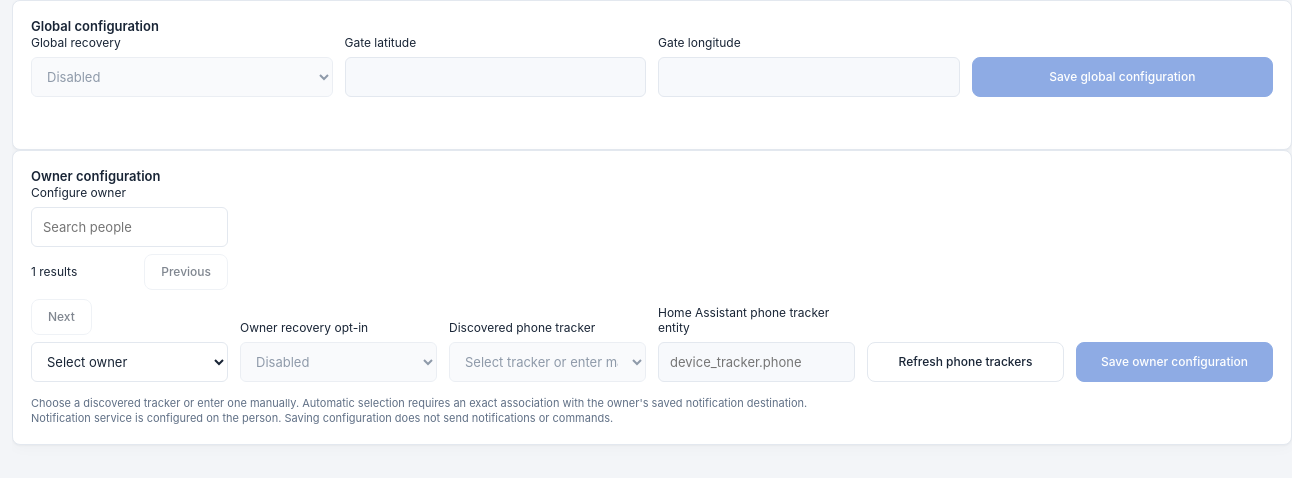
Test: refreshes recovery owner identities locally after an accepted save while maintenance remains blocked
Select "Ash Smith" in the dropdown named "Configure owner" at (130, 362), box [31, 342, 228, 382]
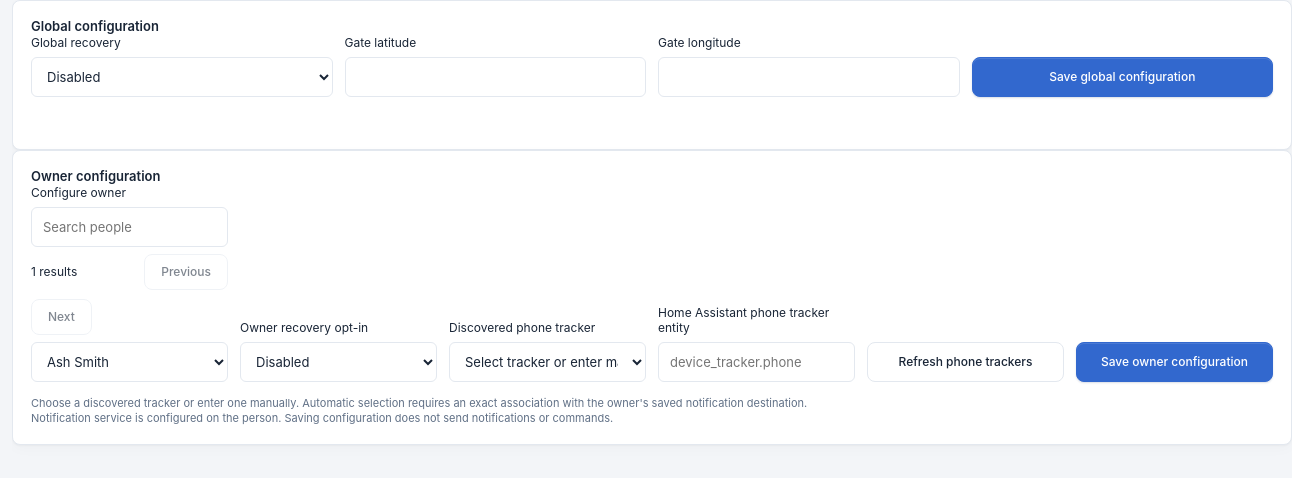
Select "Enabled" in the dropdown labelled "Owner recovery opt-in" at (338, 362), box [240, 342, 437, 382]
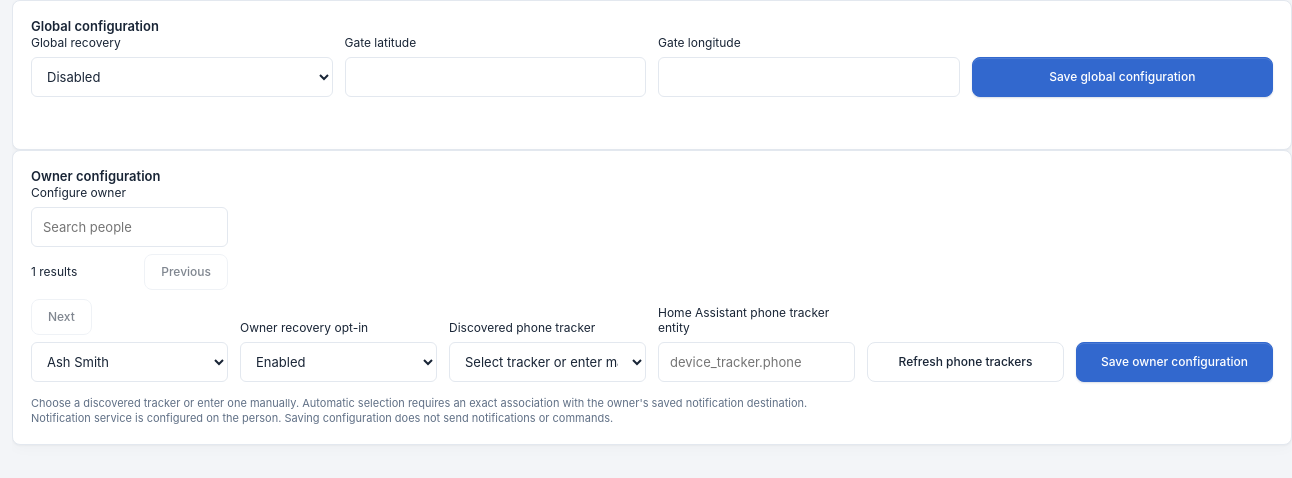
Click the button "Save owner configuration".
click(1174, 362)  # box [1076, 342, 1273, 382]
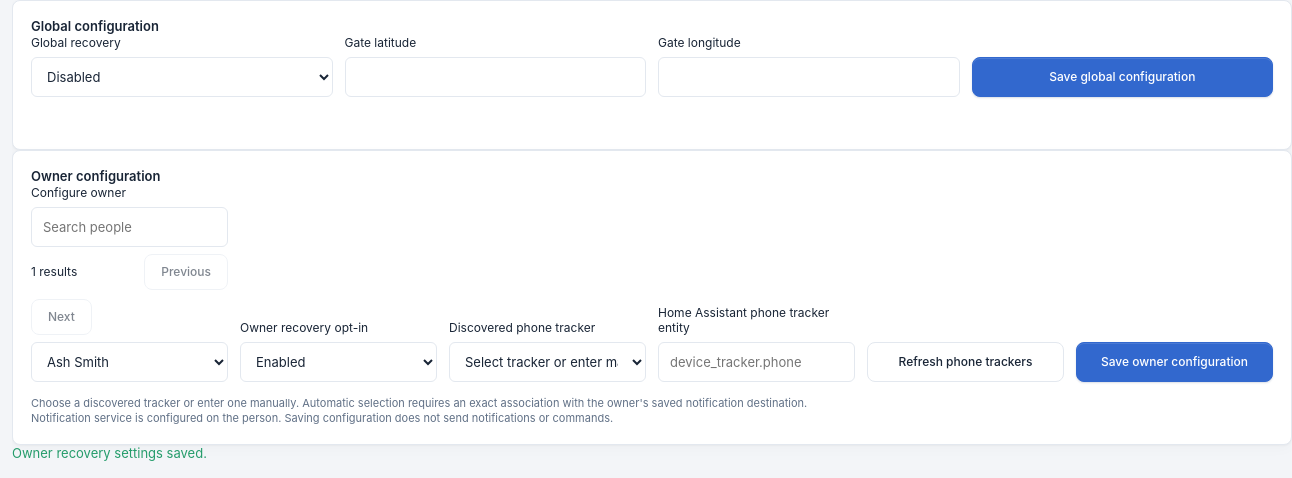
expect the button "Save owner configuration" is enabled: met, box [1076, 342, 1273, 382]
expect the text "Owner recovery settings saved." is shown: met, box [12, 445, 207, 461]
